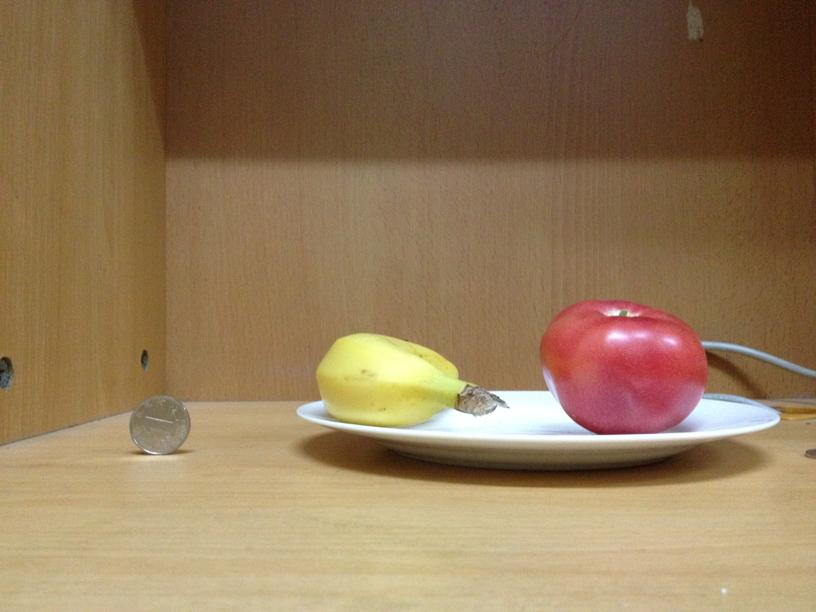banana: (321, 329, 464, 427)
coin: (129, 396, 190, 455)
tomato: (539, 303, 705, 431)
